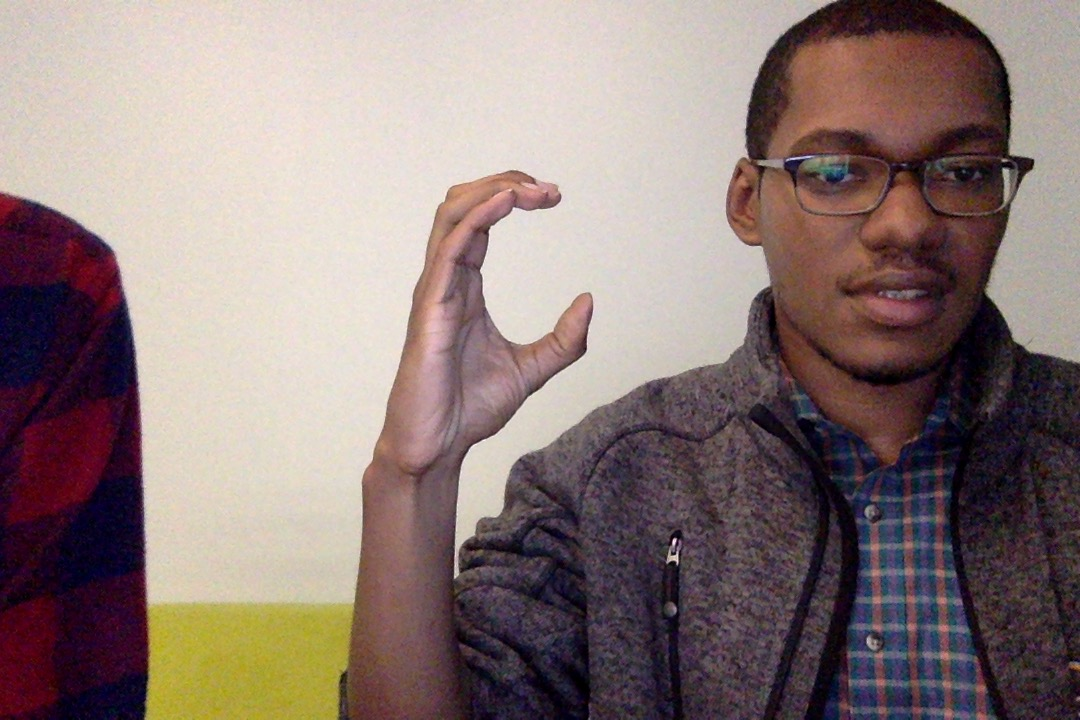c: (366, 160, 606, 470)
